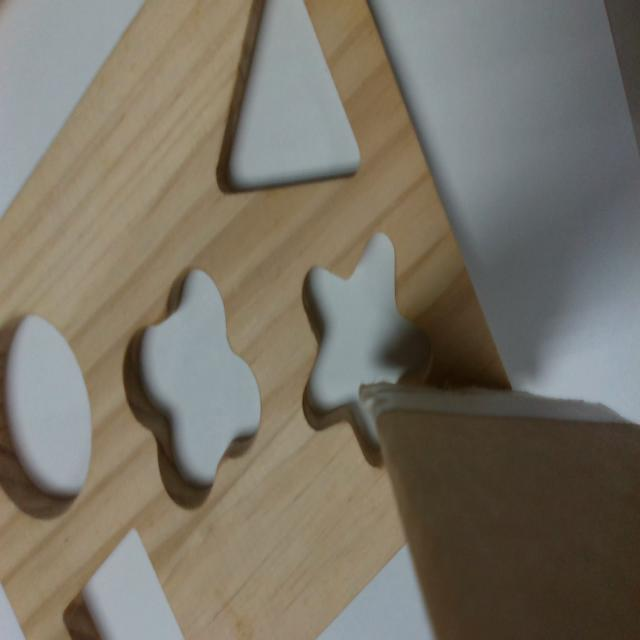circle: (1, 316, 91, 520)
flower: (123, 268, 262, 511)
square: (62, 523, 186, 638)
star: (304, 227, 431, 461)
triangle: (215, 1, 365, 197)
